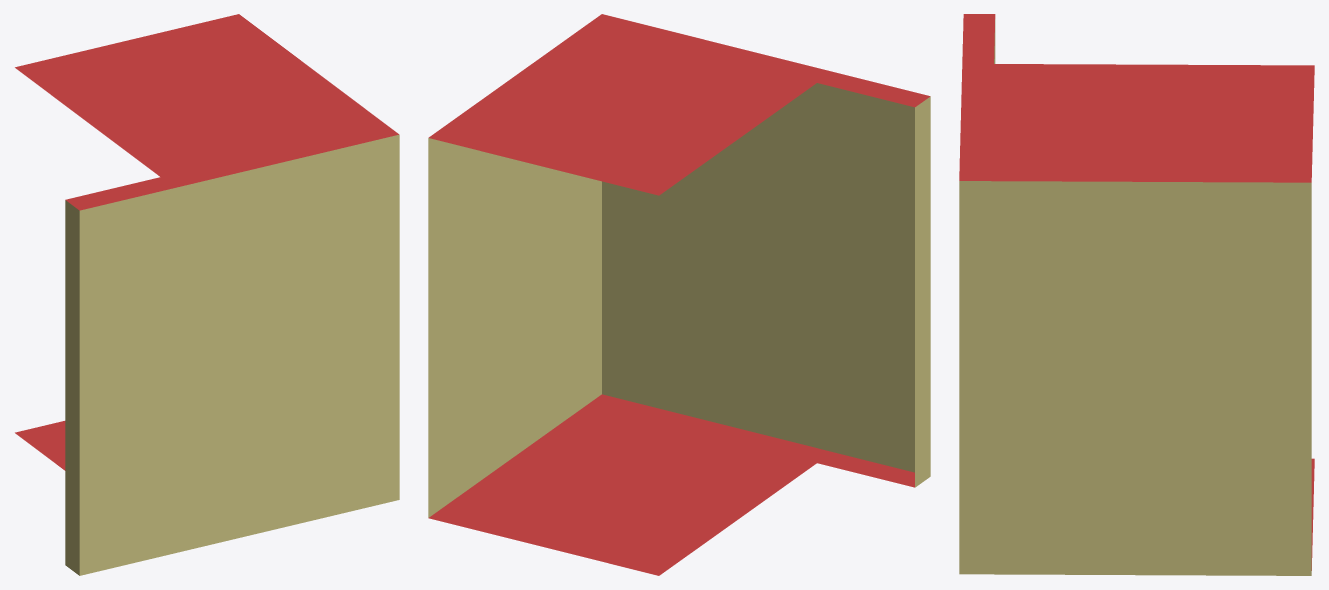
3 renders of one model, left to right at view 1: azimuth 30°, elevation 25°; view 2: azimuth 150°, elevation 25°; view 3: azimuth 270°, elevation 25°, orthographic. The views are drawn at different scales.
Bounding box in the file's own units: 6.29 × 5.6 × 6.83.
